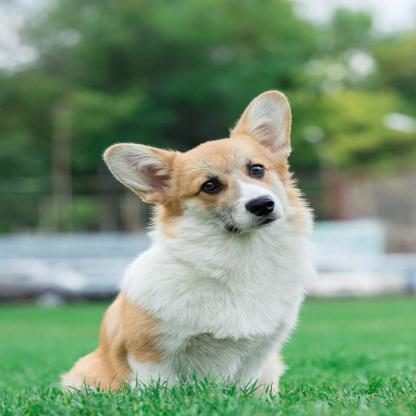Korgi: (58, 88, 319, 398)
